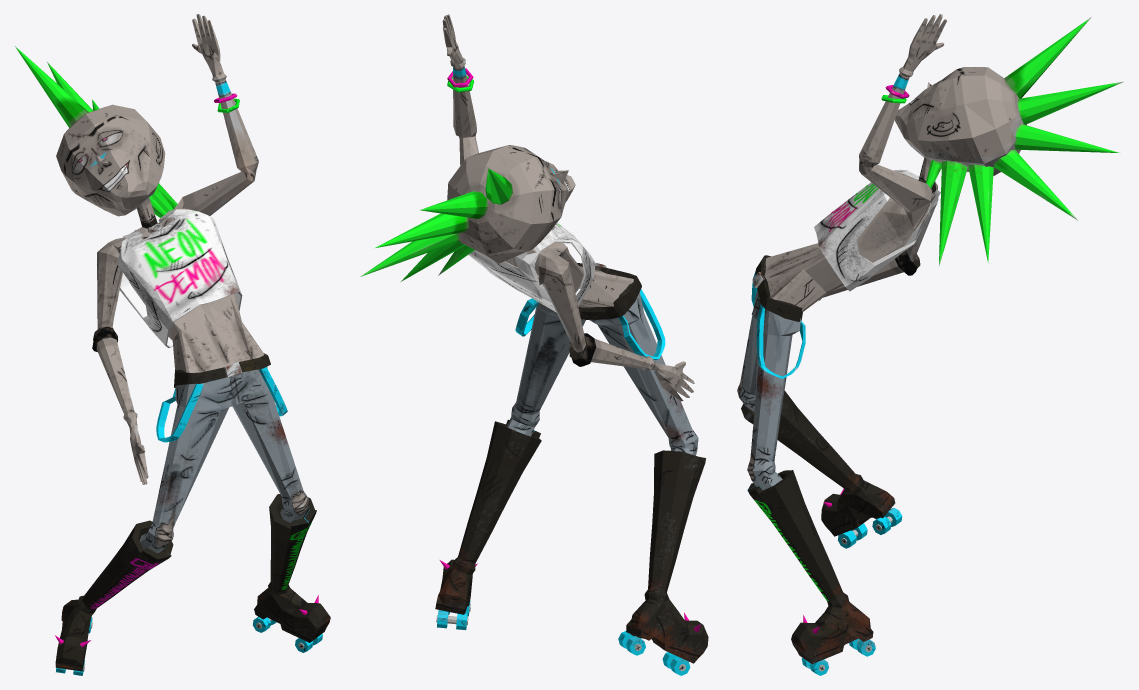
File: punkAnimation_000103.obj
The picture shows the model from 3 angles, left to right: view 1: azimuth 30°, elevation 25°; view 2: azimuth 150°, elevation 25°; view 3: azimuth 270°, elevation 25°; orthographic projection. The views are drawn at different scales.
Visible parts, largest first — view 1: Cube.004_Cube.003; view 2: Cube.004_Cube.003; view 3: Cube.004_Cube.003.
Part boxes in pixels (x1,y1,x2,y2): Cube.004_Cube.003: [14, 14, 330, 675]; Cube.004_Cube.003: [360, 14, 708, 675]; Cube.004_Cube.003: [737, 14, 1123, 675].
Size of the model in its own units: 2.94 by 6.54 by 3.64.
